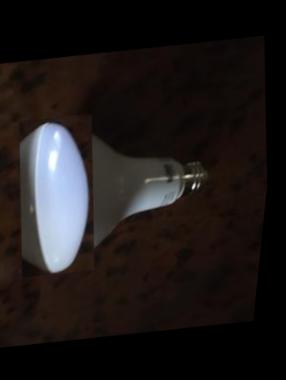Fan: (8, 110, 114, 277)
